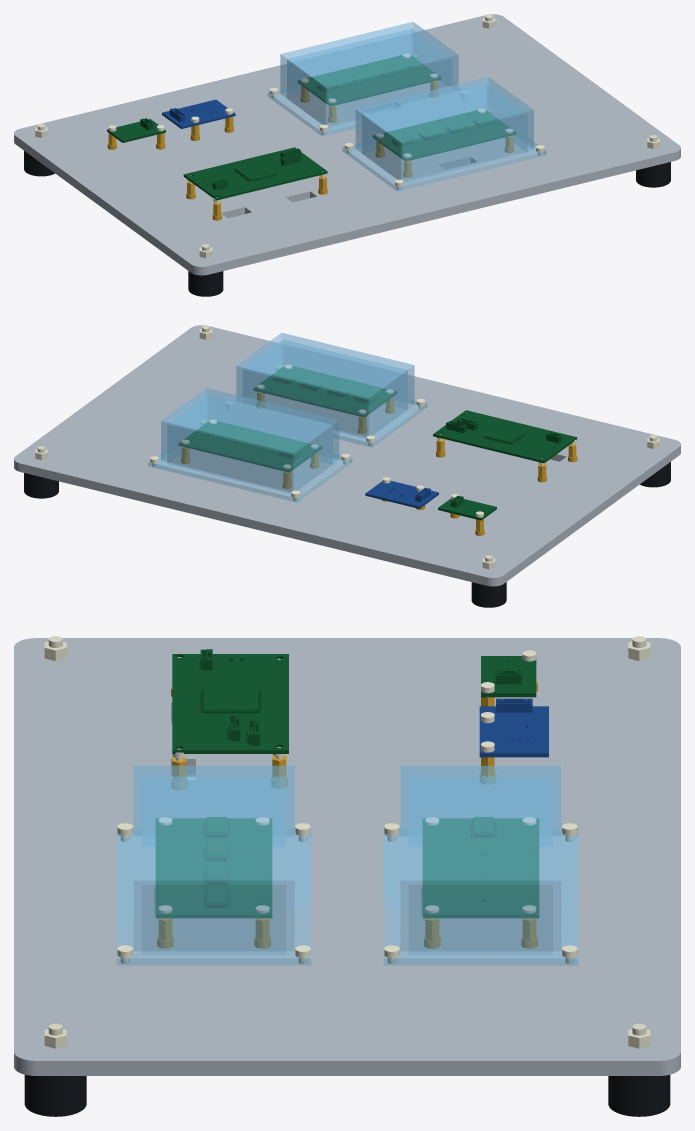
File: HR30_E1_controls_only_fixture_candidate.glb
3 views of the same model, one above another, from view 1: azimuth 30°, elevation 25°; view 2: azimuth 150°, elevation 25°; view 3: azimuth 270°, elevation 25° (orthographic). The views are drawn at different scales.
Parts seen in each view (by area): view 1: E1_BASE_PANEL_360x240x6, SEALED_CARRIER_A_FIELD_PORT_COVER, SEALED_CARRIER_B_FIELD_PORT_COVER, NATIVE_MCU_PCB, NATIVE_CARRIER_B_PCB, NATIVE_CARRIER_A_PCB, NATIVE_WATCHDOG_PCB, BENCH_FOOT_1, NATIVE_SWD_PCB, BENCH_FOOT_3; view 2: E1_BASE_PANEL_360x240x6, SEALED_CARRIER_B_FIELD_PORT_COVER, SEALED_CARRIER_A_FIELD_PORT_COVER, NATIVE_MCU_PCB, NATIVE_CARRIER_A_PCB, NATIVE_CARRIER_B_PCB, NATIVE_WATCHDOG_PCB, NATIVE_SWD_PCB, BENCH_FOOT_2, BENCH_FOOT_4; view 3: E1_BASE_PANEL_360x240x6, SEALED_CARRIER_B_FIELD_PORT_COVER, SEALED_CARRIER_A_FIELD_PORT_COVER, NATIVE_MCU_PCB, NATIVE_CARRIER_A_PCB, NATIVE_CARRIER_B_PCB, NATIVE_WATCHDOG_PCB, BENCH_FOOT_3, BENCH_FOOT_4, NATIVE_SWD_PCB.
Part boxes in pixels (<box>): E1_BASE_PANEL_360x240x6: <box>14,14,680,275</box>; SEALED_CARRIER_A_FIELD_PORT_COVER: <box>342,77,546,191</box>; SEALED_CARRIER_B_FIELD_PORT_COVER: <box>267,22,461,136</box>; NATIVE_MCU_PCB: <box>183,147,327,200</box>; NATIVE_CARRIER_B_PCB: <box>298,55,441,106</box>; NATIVE_CARRIER_A_PCB: <box>373,110,516,161</box>; NATIVE_WATCHDOG_PCB: <box>162,99,235,128</box>; BENCH_FOOT_1: <box>188,271,223,296</box>; NATIVE_SWD_PCB: <box>107,118,165,142</box>; BENCH_FOOT_3: <box>636,162,670,187</box>; E1_BASE_PANEL_360x240x6: <box>14,325,680,586</box>; SEALED_CARRIER_B_FIELD_PORT_COVER: <box>148,388,352,502</box>; SEALED_CARRIER_A_FIELD_PORT_COVER: <box>233,333,427,447</box>; NATIVE_MCU_PCB: <box>433,410,577,463</box>; NATIVE_CARRIER_A_PCB: <box>253,366,396,417</box>; NATIVE_CARRIER_B_PCB: <box>178,421,321,472</box>; NATIVE_WATCHDOG_PCB: <box>365,481,438,508</box>; NATIVE_SWD_PCB: <box>438,495,496,520</box>; BENCH_FOOT_2: <box>471,582,506,607</box>; BENCH_FOOT_4: <box>24,473,58,498</box>; E1_BASE_PANEL_360x240x6: <box>14,638,680,1075</box>; SEALED_CARRIER_B_FIELD_PORT_COVER: <box>383,765,578,965</box>; SEALED_CARRIER_A_FIELD_PORT_COVER: <box>116,765,311,965</box>; NATIVE_MCU_PCB: <box>172,649,288,753</box>; NATIVE_CARRIER_A_PCB: <box>156,817,271,917</box>; NATIVE_CARRIER_B_PCB: <box>423,817,538,917</box>; NATIVE_WATCHDOG_PCB: <box>479,698,548,757</box>; BENCH_FOOT_3: <box>24,1075,86,1116</box>; BENCH_FOOT_4: <box>608,1075,670,1116</box>; NATIVE_SWD_PCB: <box>481,656,536,697</box>.
Bounding box in the file's own units: 360 × 55 × 240.
